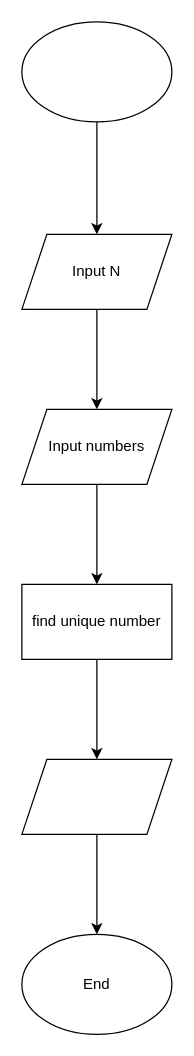
Image size: 194x1056. Some labels were removed from this diagram. Here are the shapes that lost their labels. From the top down, the centre of each, then its label:
At (x=96, y=71): "Start".
At (x=96, y=796): "Output unique number".
